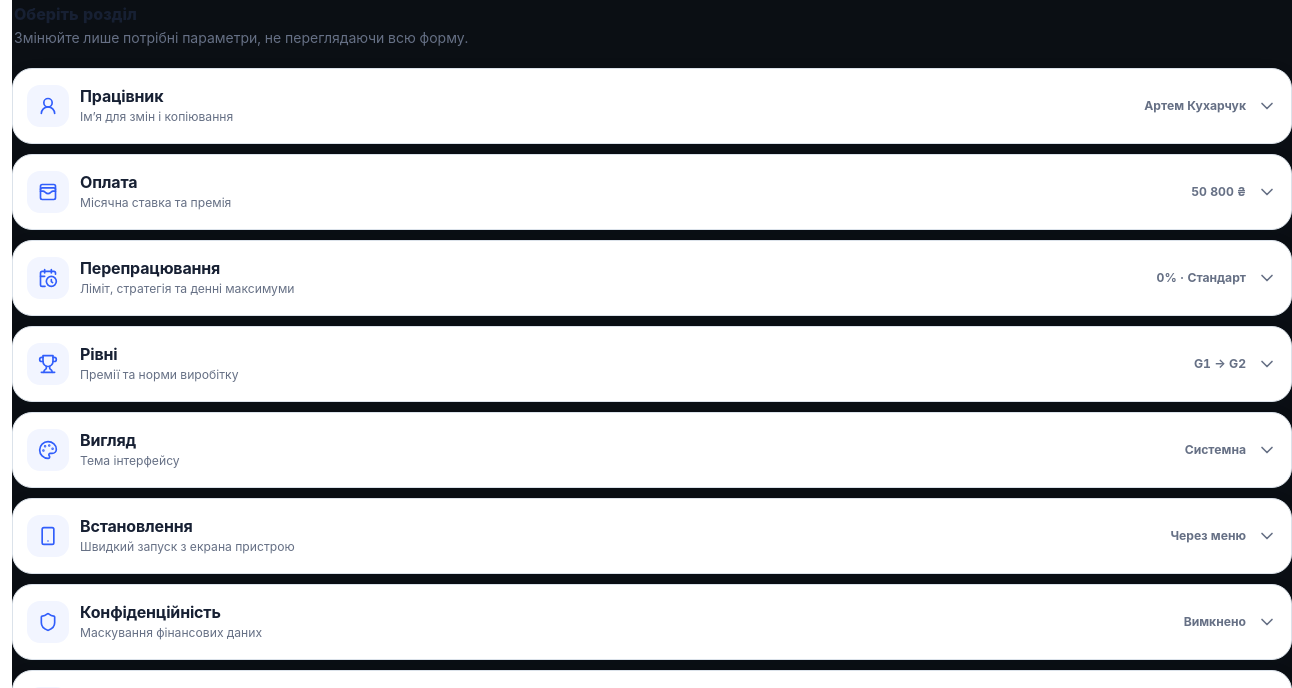
it: SettingsPage › keeps groups compact and shows save actions only for draft changes
Click the heading "Оплата Місячна ставка та премія 50 800 ₴": (48, 192) [27, 171, 1277, 213]
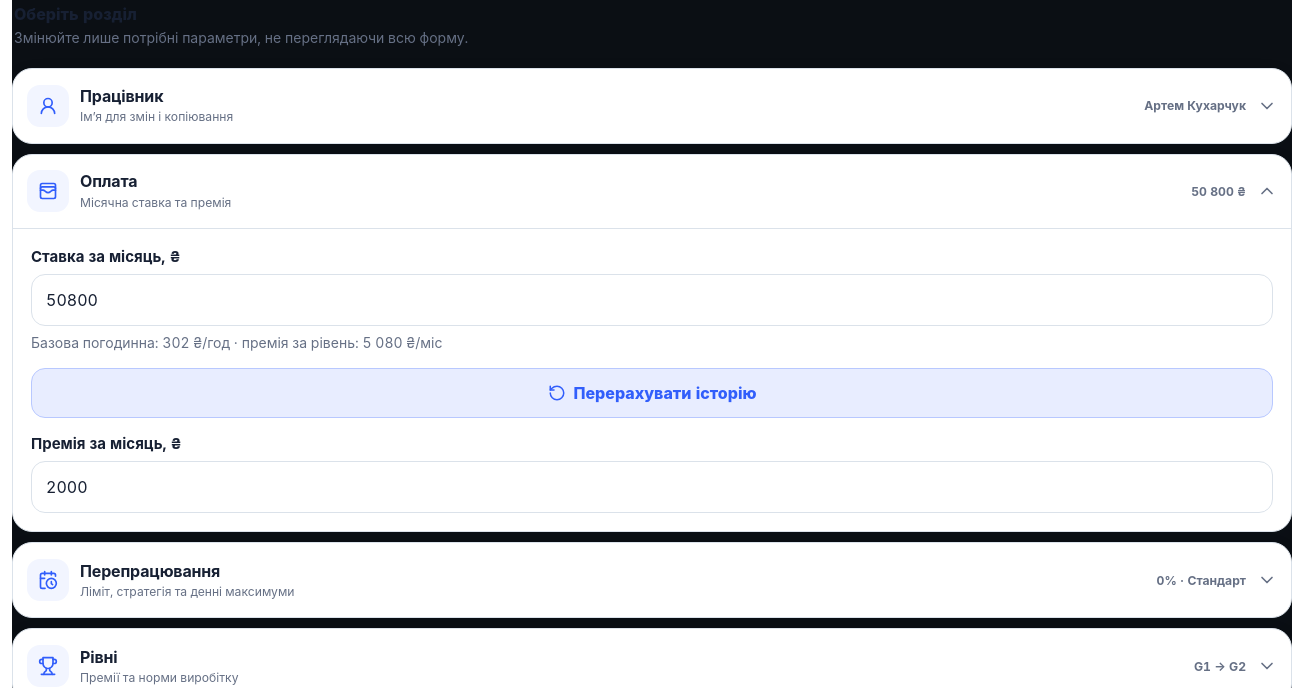
Replace the text in the field labelled "Ставка за місяць" with "51000": (652, 300) [31, 274, 1273, 326]
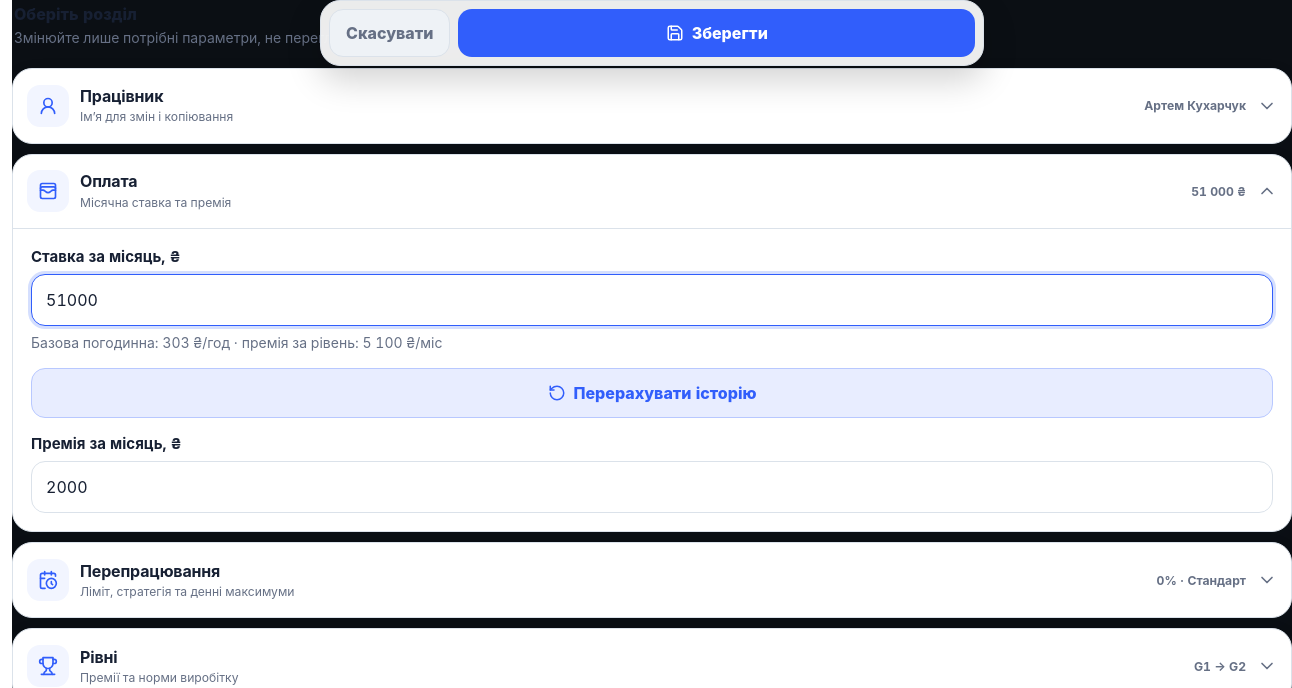
Expected: the button with aria-label "Зберегти налаштування" is shown, [458, 9, 975, 57]
Click the button "Скасувати": (390, 33) [329, 9, 450, 57]
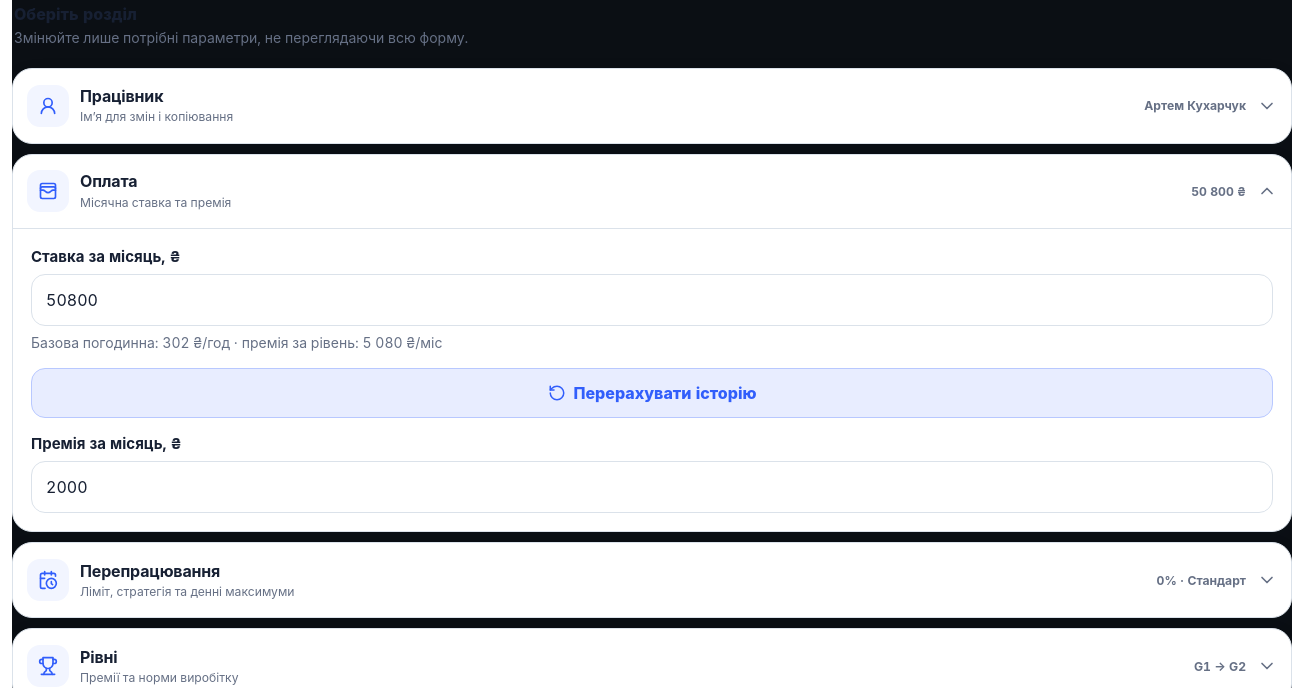
Expected: the field labelled "Ставка за місяць" holds "50800", [31, 274, 1273, 326]
